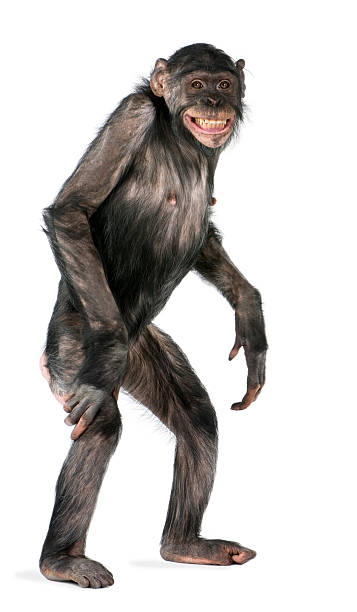chimpanzee: (128, 32, 259, 166)
